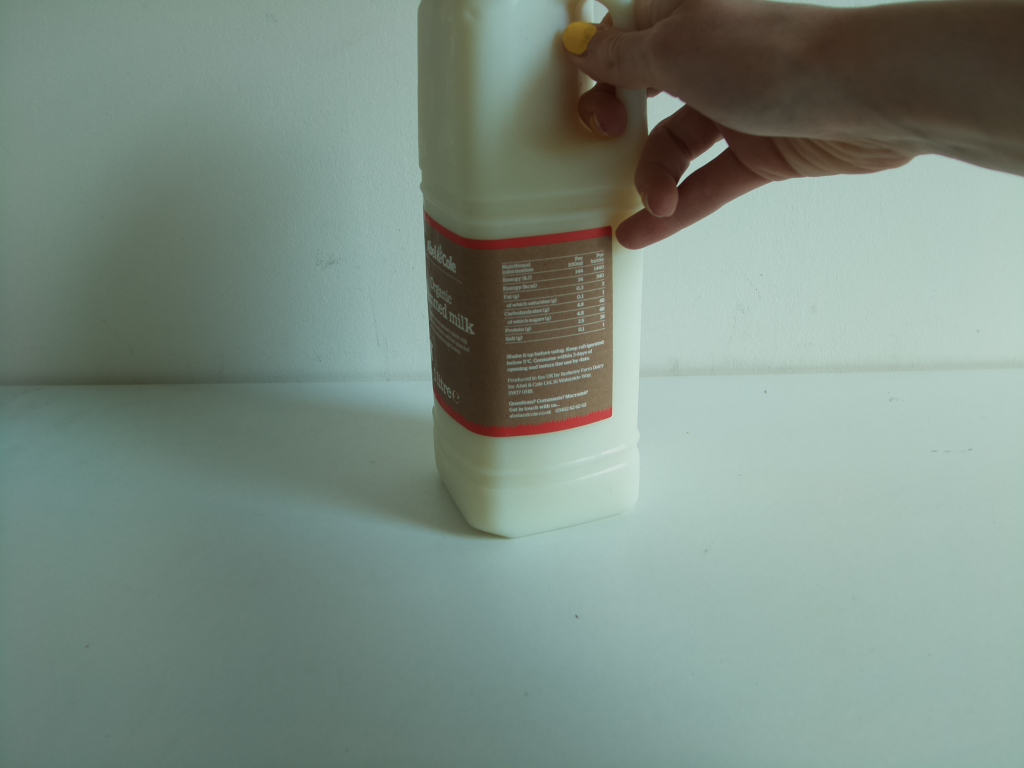milk: (417, 1, 659, 542)
